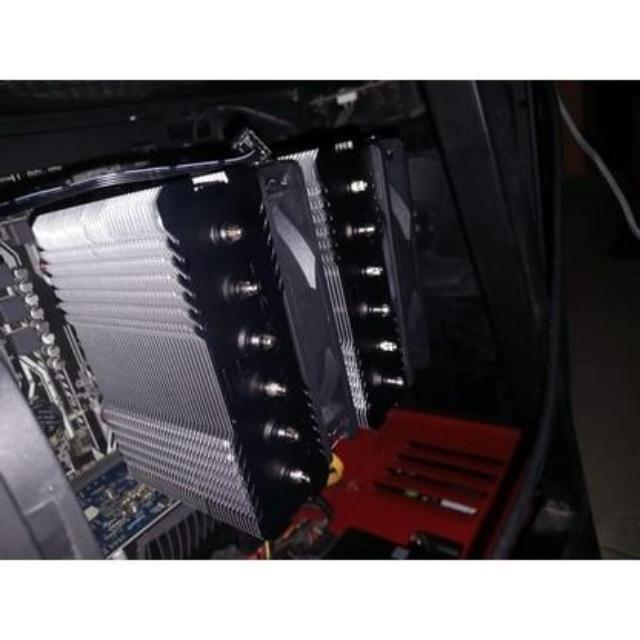CPU_Fan: (51, 138, 416, 524)
